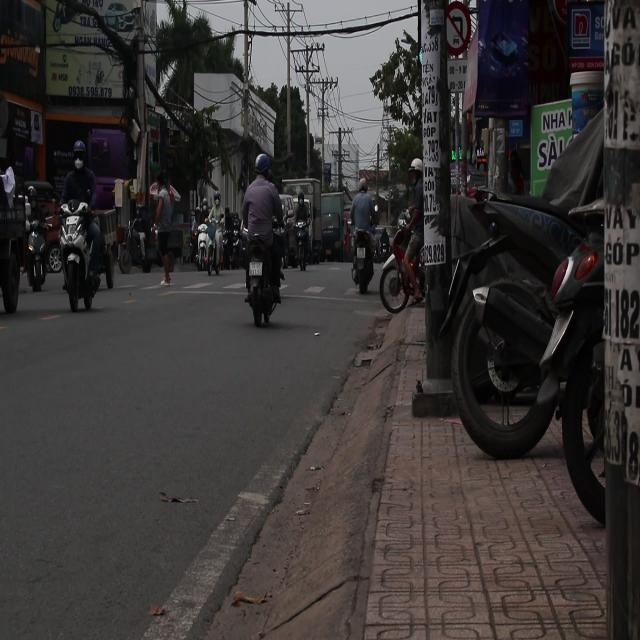motorbike: (59, 204, 107, 312), (379, 213, 424, 314), (242, 237, 284, 328), (194, 200, 232, 298), (351, 223, 380, 293)
truck: (319, 192, 343, 264)
